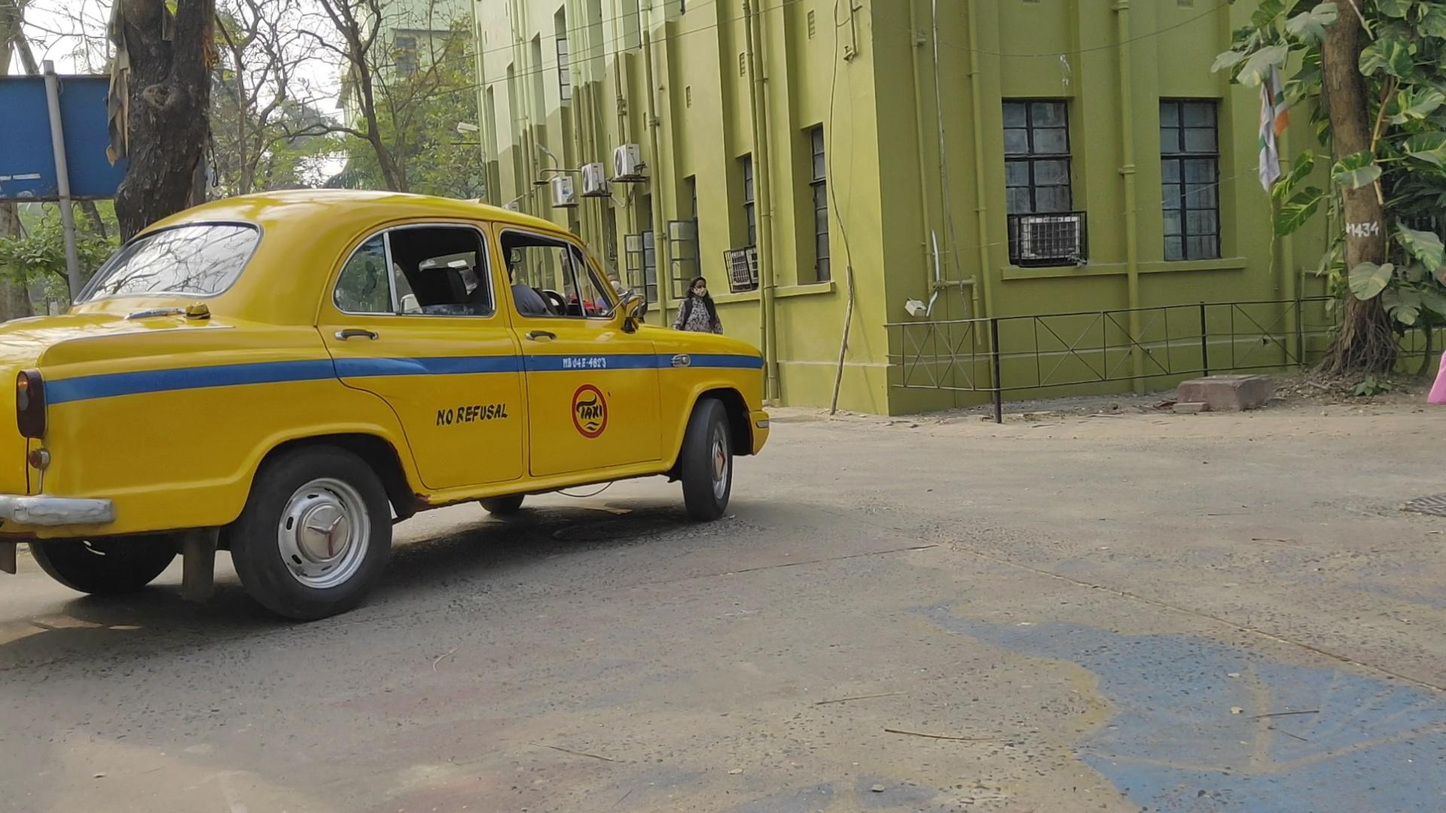car: (2, 187, 771, 623)
